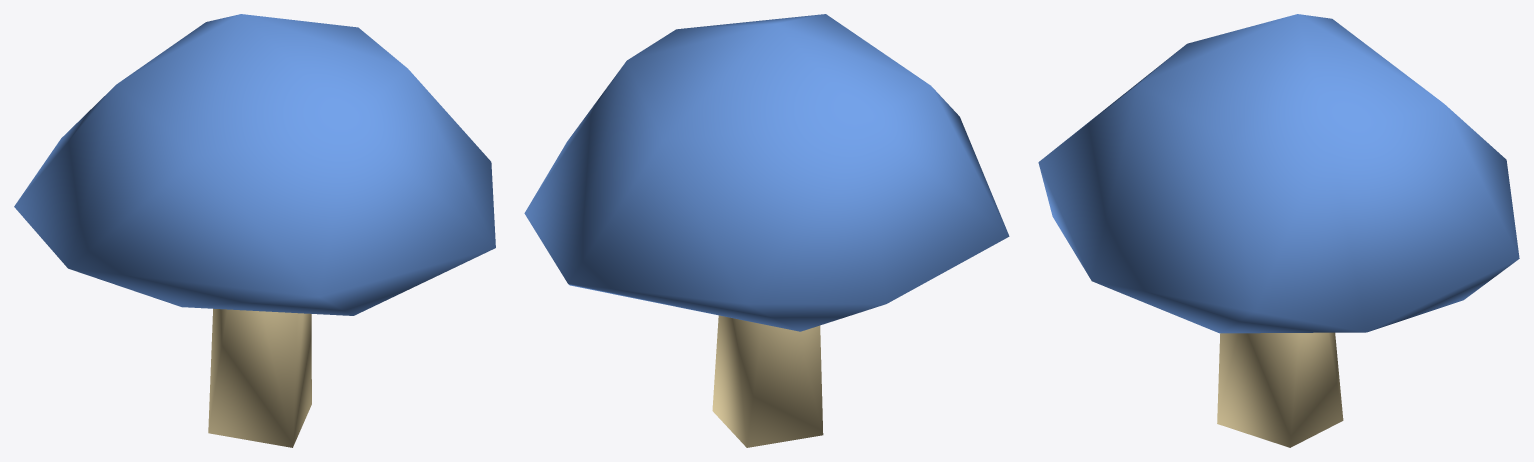
The model's file is Mushroom_6.fbx.
3 views of the same model, side by side, from view 1: azimuth 30°, elevation 25°; view 2: azimuth 150°, elevation 25°; view 3: azimuth 270°, elevation 25° (orthographic).
Parts seen in each view (by area): view 1: Mushroom_6; view 2: Mushroom_6; view 3: Mushroom_6.
Part boxes in pixels (x1,y1,x2,y2): Mushroom_6: [14, 14, 495, 447]; Mushroom_6: [524, 14, 1009, 447]; Mushroom_6: [1038, 14, 1519, 447].
Bounding box in the file's own units: 25.98 × 23.41 × 25.23.
